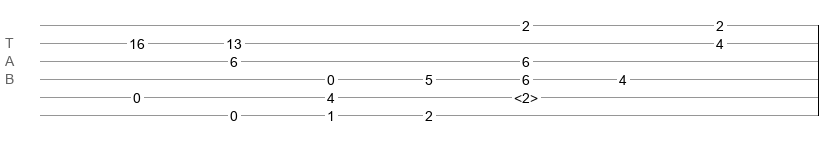0: (133, 90, 141, 100), (230, 108, 238, 118), (327, 72, 335, 82)
1: (327, 108, 335, 118)
13: (226, 36, 242, 46)
16: (129, 36, 145, 46)
2: (425, 108, 433, 118), (522, 18, 530, 28), (716, 18, 724, 28)
4: (327, 90, 335, 100), (619, 72, 627, 82), (716, 36, 724, 46)
5: (425, 72, 433, 82)
6: (230, 54, 238, 64), (522, 72, 530, 82), (522, 54, 530, 64)
harmonic: (514, 90, 538, 100)
